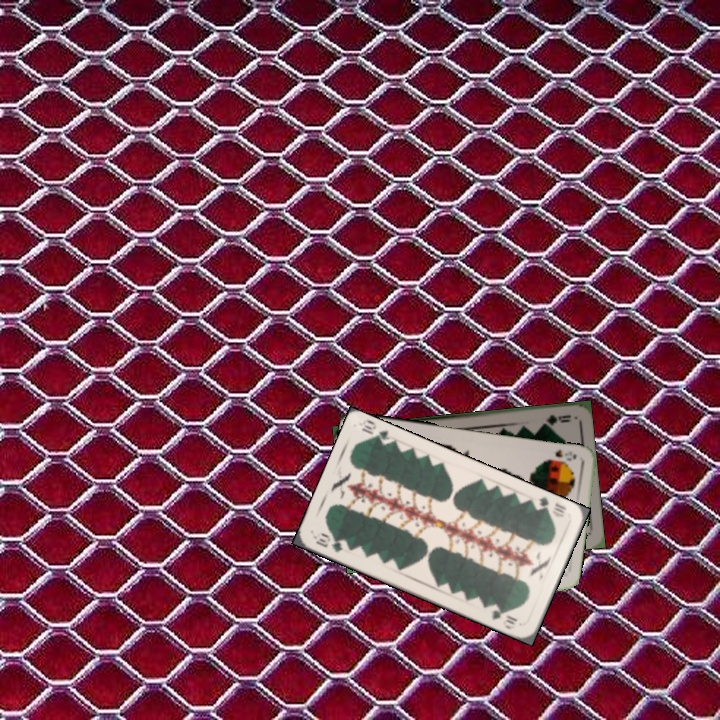G10: (535, 493, 570, 520), (312, 530, 345, 555)
G9: (536, 411, 573, 428)
SO: (551, 446, 579, 464)
